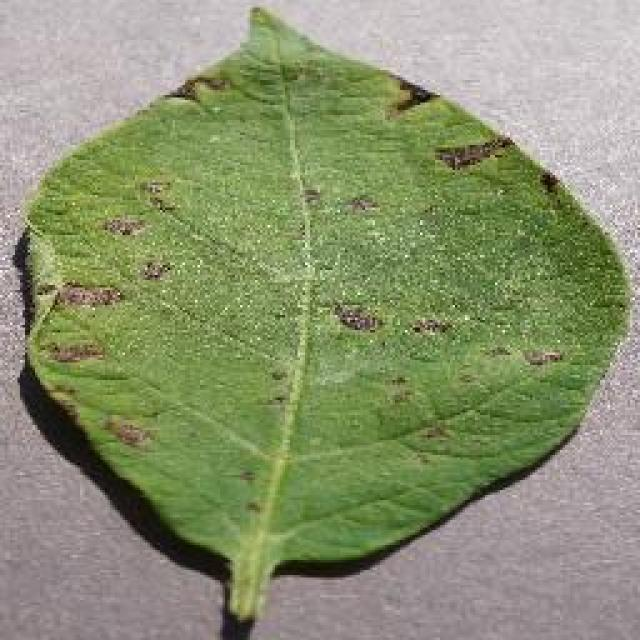early_blight: (13, 3, 635, 625)
